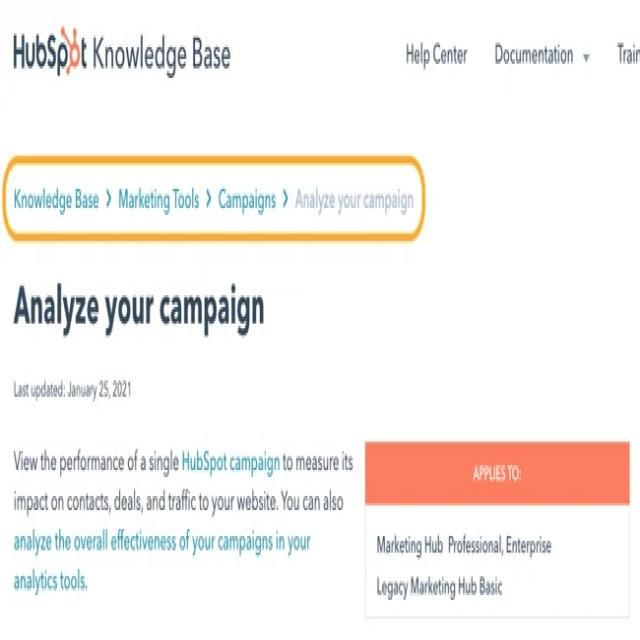Breadcrumb: (12, 182, 414, 222)
buttons: (403, 37, 467, 75)
dropdown: (494, 35, 592, 75)
text: (12, 449, 354, 594), (9, 22, 241, 84), (13, 287, 264, 341), (375, 535, 552, 601), (474, 458, 523, 493)
